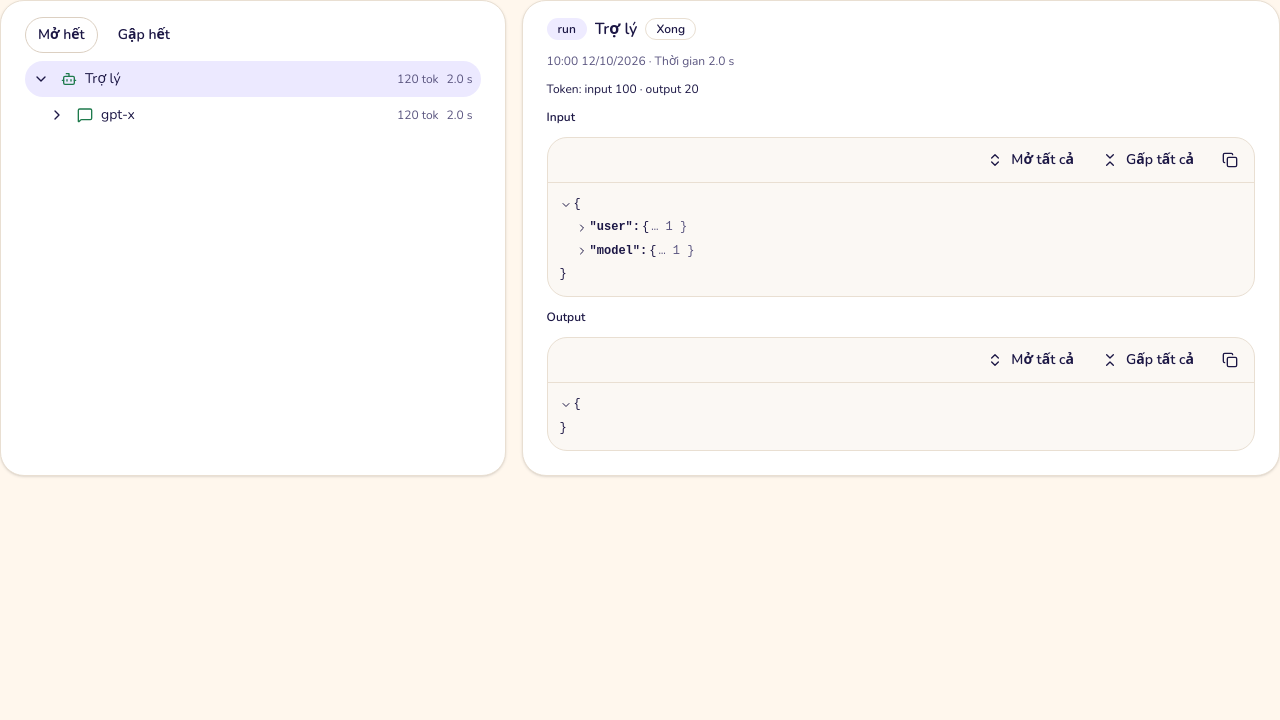
Test: TraceDetail › span llm hiện token + masked_hint, không lộ key đầy đủ
This screenshot has width=1280, height=720.
Click the button with test id "spans-expand" at [61, 35], box [25,17,98,53]
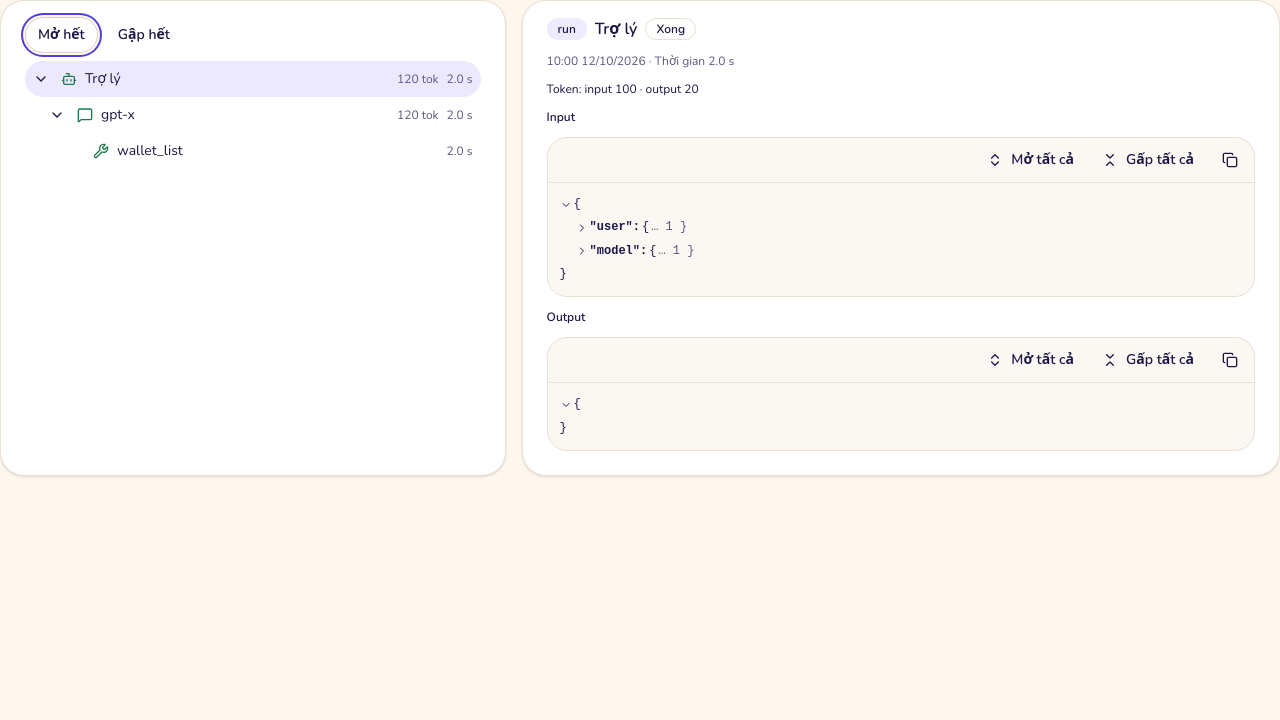
Click the button with test id "span-llm-sp-llm" at [118, 114], box [77,101,473,129]
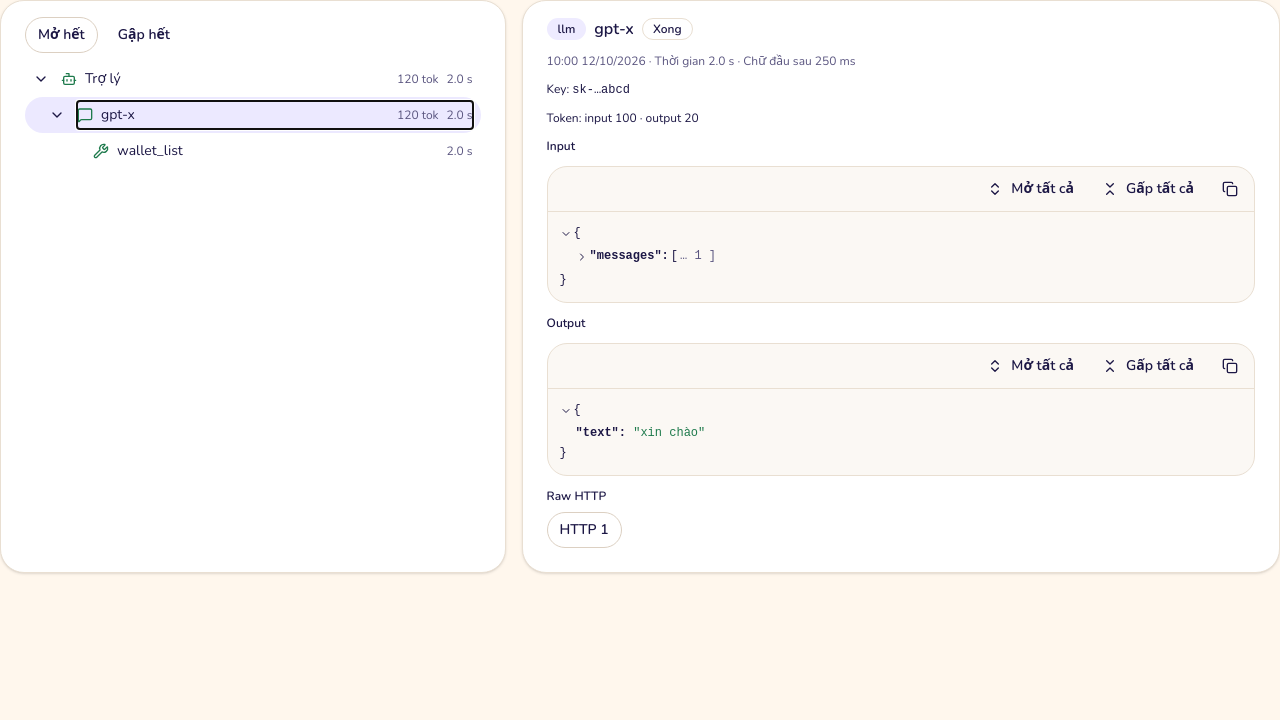
expect the text with test id "span-usage" shows "input 100": met, box [584,110,699,126]
expect the element with test id "span-key" shows "sk-…abcd": met, box [572,83,630,97]
